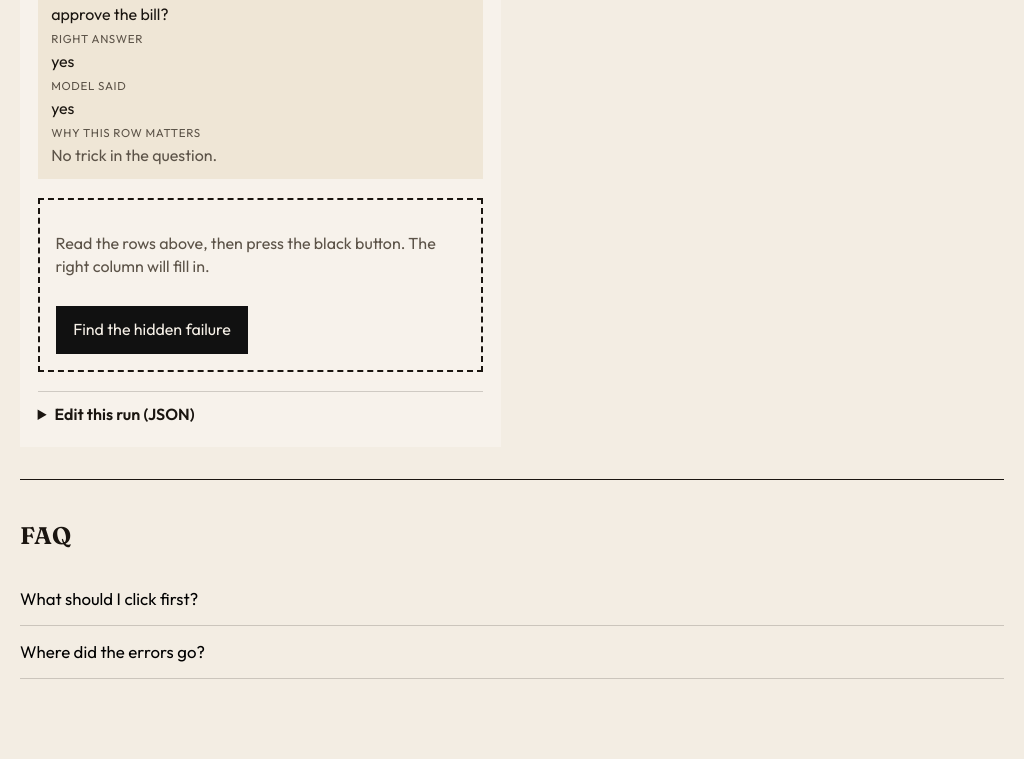
Scenario: Slice Lens › puts the FAQ accordion at the bottom with What should I click first?
(page scrolled)
Click the button "What should I click first?".
click(109, 599)  # box 20,574 -> 1004,626
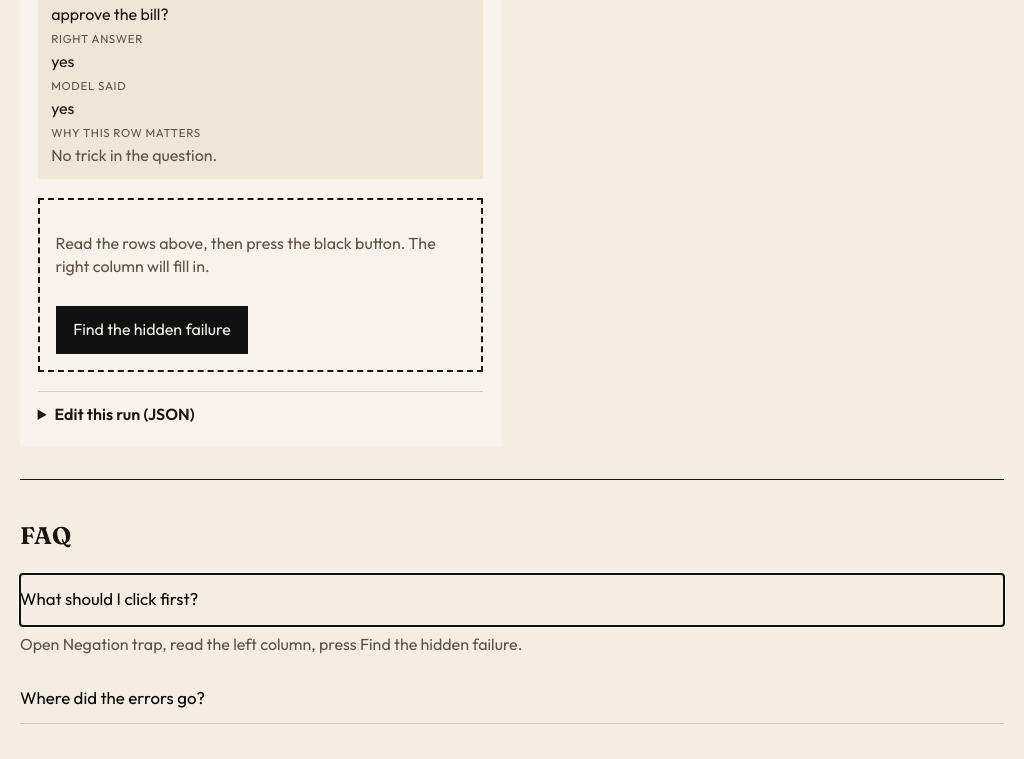
Expected: the text "Open Negation trap, read the left column, press Find the hidden failure." is shown, 20,634 -> 522,654
